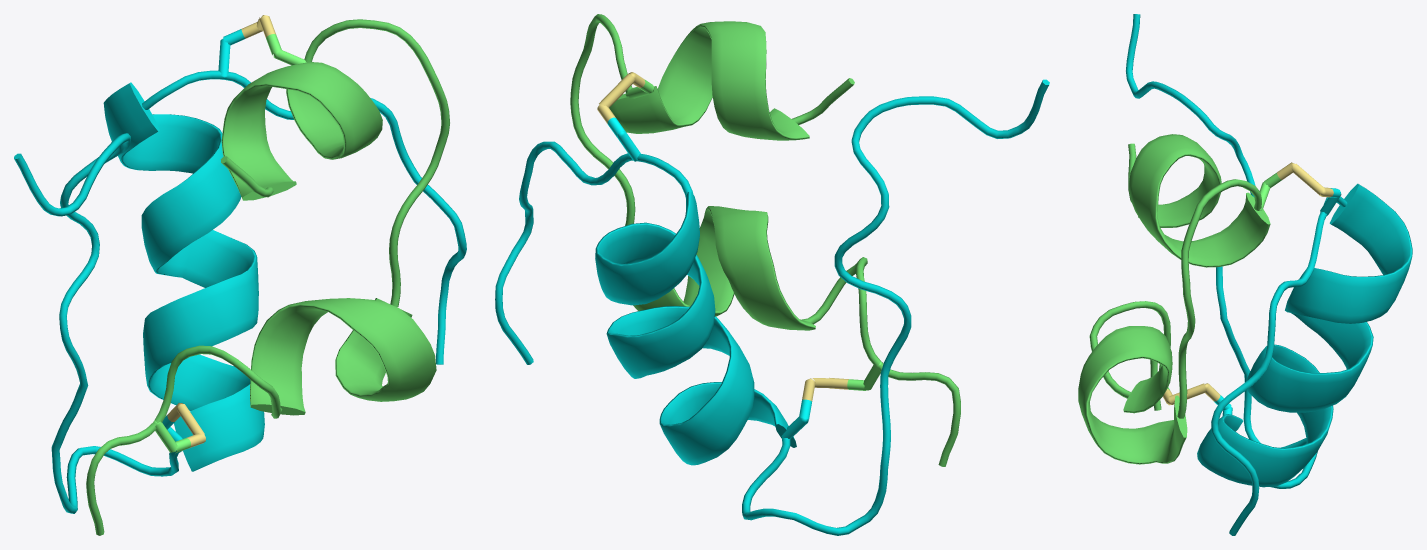
Rendered from insulin.gltf.
3 views of the same model, side by side, from view 1: azimuth 30°, elevation 25°; view 2: azimuth 150°, elevation 25°; view 3: azimuth 270°, elevation 25° (orthographic). The views are drawn at different scales.
Visible parts, largest first — view 1: node-geom14; view 2: node-geom14; view 3: node-geom14.
Boxes of the visible parts, box(x1,y1,x2,y2) form: node-geom14: box(14, 19, 466, 535); node-geom14: box(495, 14, 1049, 535); node-geom14: box(1078, 14, 1412, 535).
Size of the model in its own units: 2.65e-09 by 2.23e-09 by 1.75e-09.
